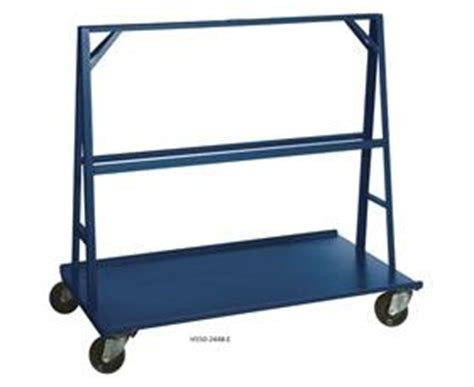Carts: (46, 12, 423, 374)
